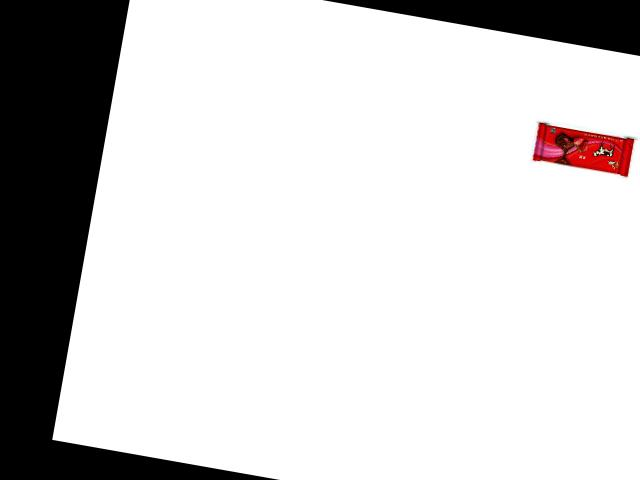chocolate: (532, 115, 640, 177)
